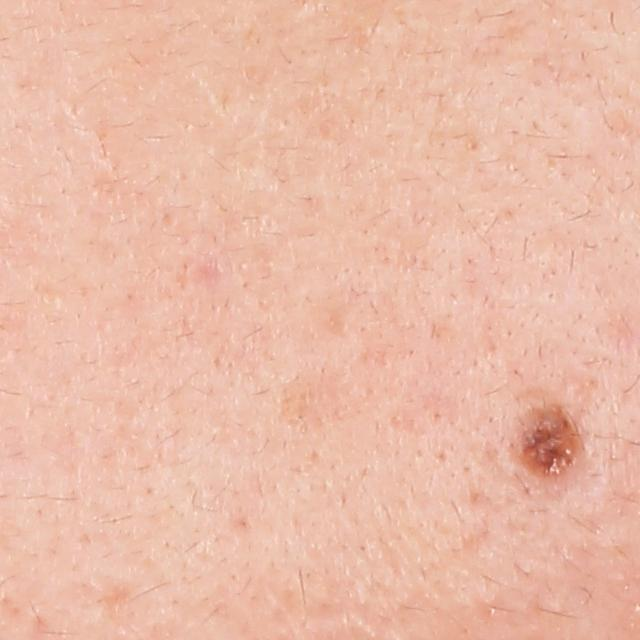nevus: (504, 396, 587, 491)
